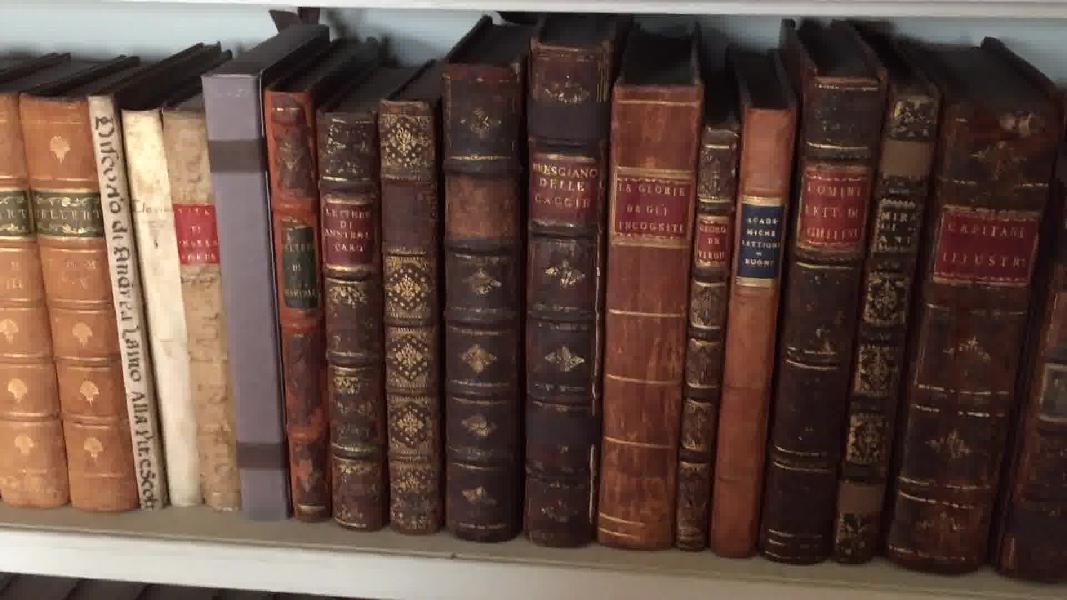Aa6-24: (82, 93, 178, 517)
Aa6-25: (113, 101, 204, 520)
Aa6-26: (155, 92, 258, 516)
Aa6-27: (190, 59, 293, 531)
Aa6-28: (247, 74, 340, 529)
Aa6-29: (313, 92, 398, 532)
Aa6-30: (375, 85, 448, 554)
Aa6-31: (427, 55, 529, 544)
Aa6-32: (519, 17, 609, 552)
Aa6-33: (590, 69, 693, 570)
Aa6-34: (671, 98, 746, 569)
Aa6-35: (713, 89, 796, 575)
Aa6-36: (767, 59, 886, 563)
Aa6-37: (829, 71, 963, 582)
Aa6-38: (873, 69, 1064, 600)
